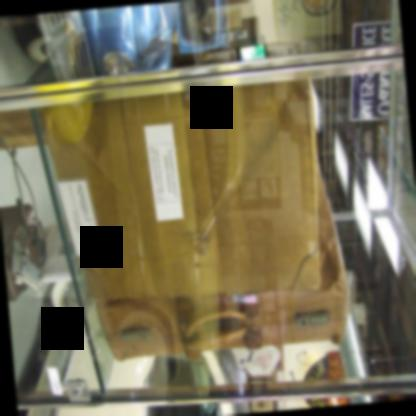suitcase: (39, 80, 319, 306), (179, 181, 346, 363), (97, 296, 185, 363)
